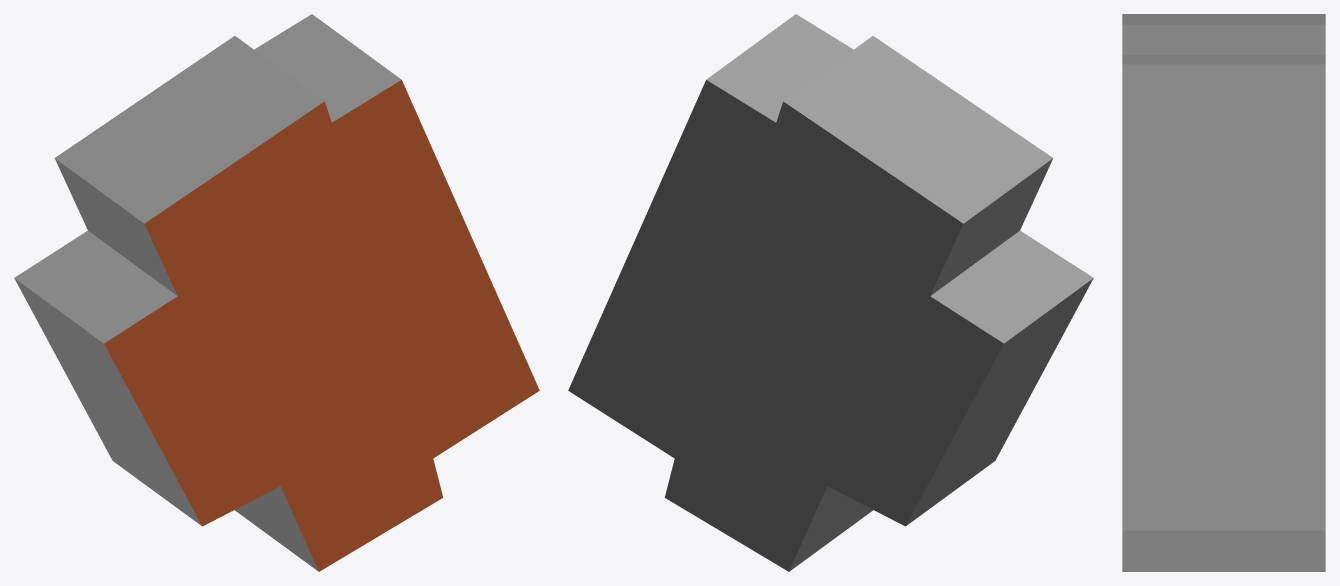
File: construction_4374_assumed_A_Casa_h6m.obj
3 views of the same model, side by side, from view 1: azimuth 30°, elevation 25°; view 2: azimuth 150°, elevation 25°; view 3: azimuth 270°, elevation 25° (orthographic). The views are drawn at different scales.
Visible parts, largest first — view 1: construction_4374_assumed_A_Casa; view 2: construction_4374_assumed_A_Casa; view 3: construction_4374_assumed_A_Casa.
Part boxes in pixels (left/top/right/bottom): construction_4374_assumed_A_Casa: left=14, top=14, right=539, bottom=571; construction_4374_assumed_A_Casa: left=568, top=14, right=1093, bottom=571; construction_4374_assumed_A_Casa: left=1122, top=14, right=1325, bottom=571.
Size of the model in its own units: 16.81 by 17.4 by 6.
